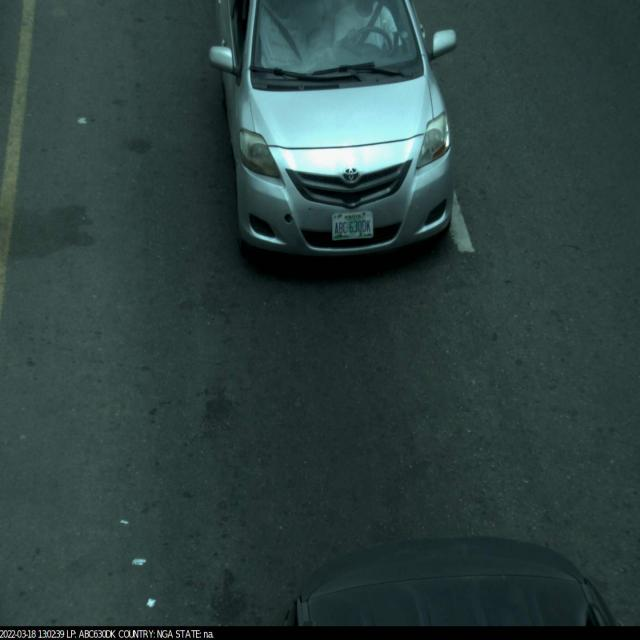windshield: (243, 0, 428, 98)
